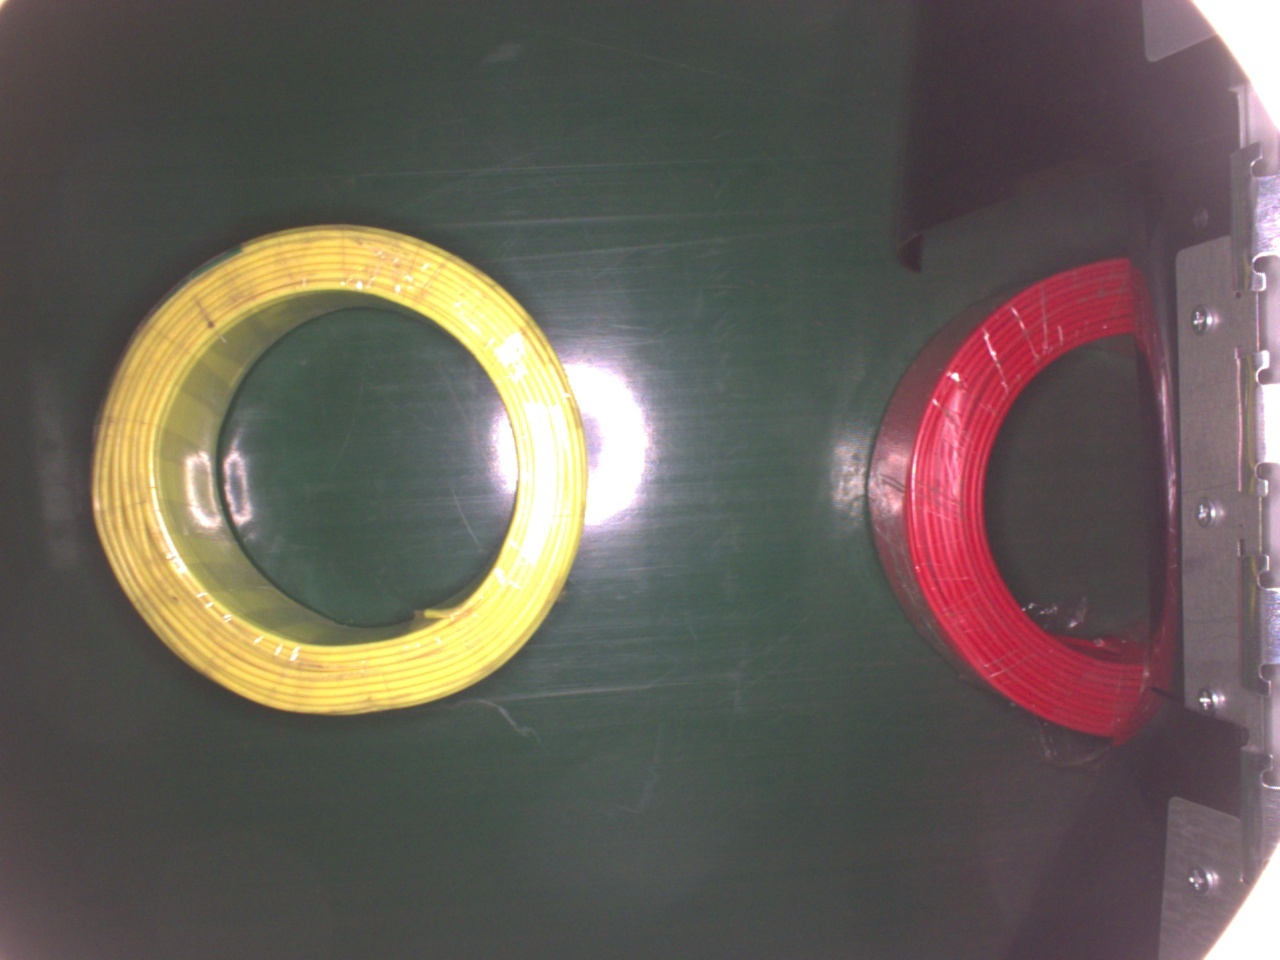red: (861, 251, 1157, 742)
yellow: (84, 220, 585, 718)
